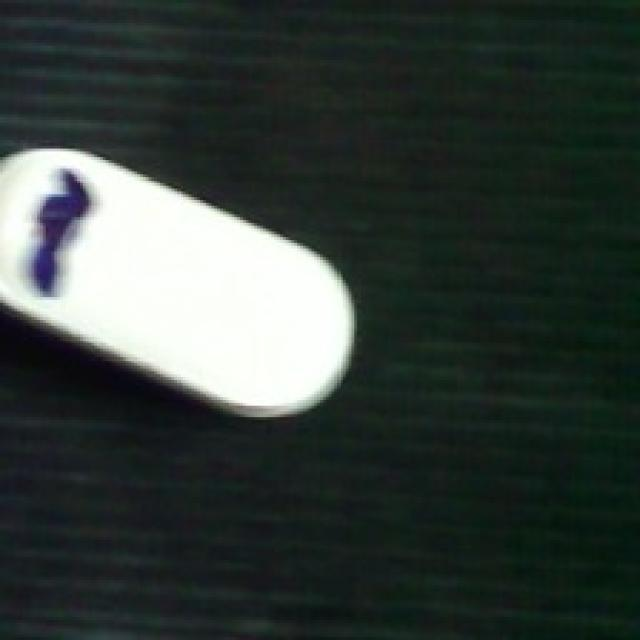defected: (0, 149, 360, 420)
